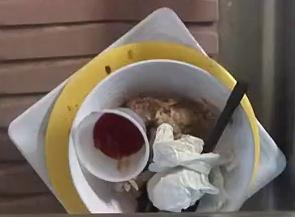chicken: (123, 94, 221, 144)
